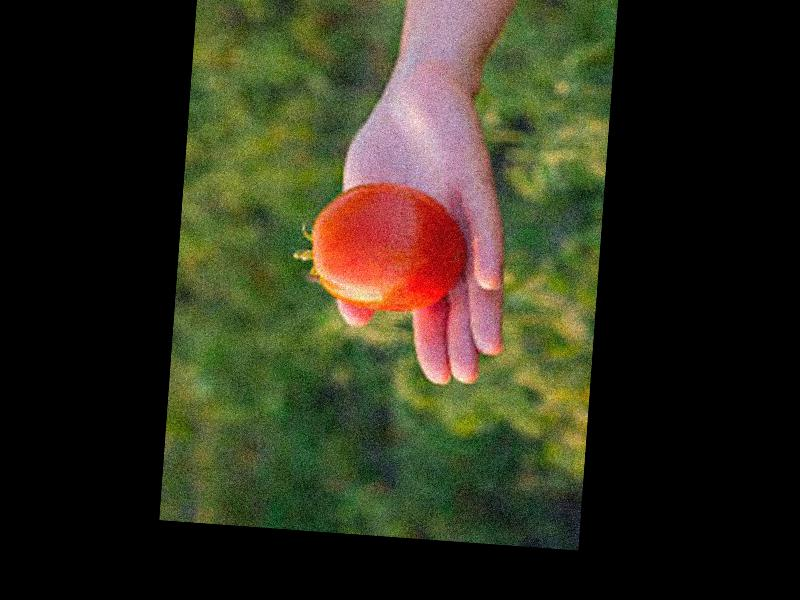Tomato: (308, 179, 473, 314)
